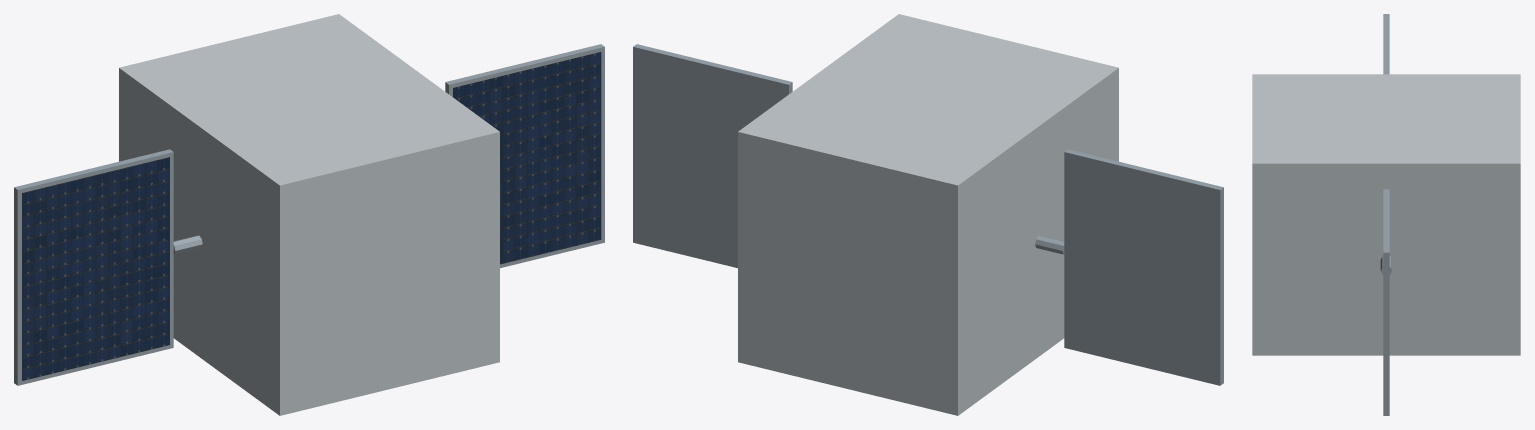
The model's file is ref-cast-3000-39455.glb.
3 views of the same model, side by side, from view 1: azimuth 30°, elevation 25°; view 2: azimuth 150°, elevation 25°; view 3: azimuth 270°, elevation 25° (orthographic). The views are drawn at different scales.
Parts seen in each view (by area): view 1: Spacecraft body, Photovoltaic laminates (×2), Array frame (×2); view 2: Spacecraft body, Array frame (×2); view 3: Spacecraft body, Array frame (×2).
Boxes of the visible parts, left/top/right/bottom form: Spacecraft body: left=119, top=14, right=499, bottom=415; Photovoltaic laminates (×2): left=22, top=52, right=601, bottom=380; Array frame (×2): left=14, top=44, right=604, bottom=385; Spacecraft body: left=738, top=14, right=1118, bottom=415; Array frame (×2): left=633, top=44, right=1223, bottom=385; Spacecraft body: left=1252, top=74, right=1520, bottom=355; Array frame (×2): left=1383, top=14, right=1389, bottom=415.
Size of the model in its own units: 4 by 1.5 by 1.9.
3 materials, 1 textured.
